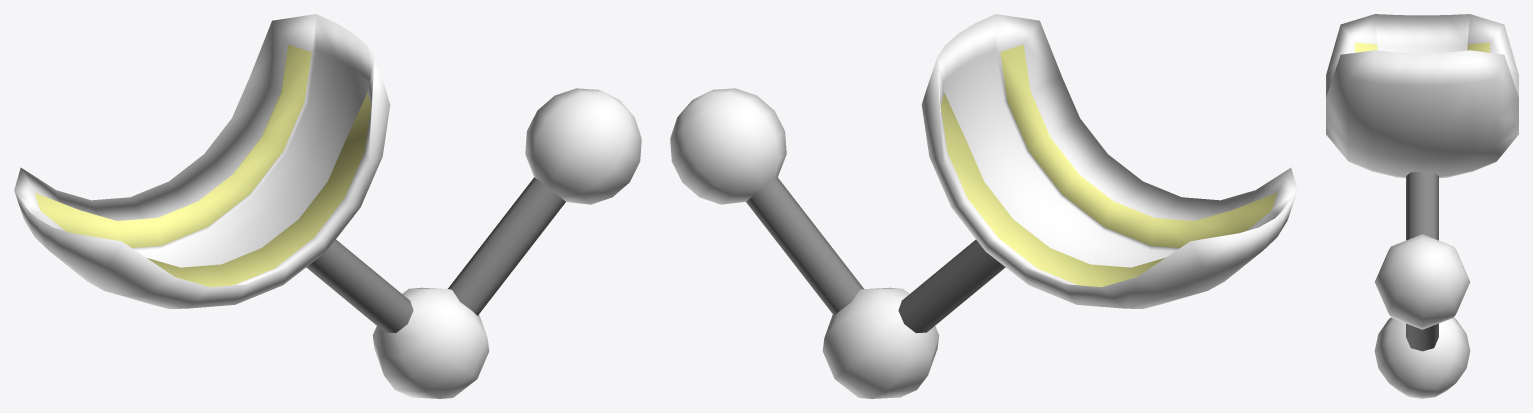
The model's file is Helm_Base_Mesh.fbx.
3 views of the same model, side by side, from view 1: azimuth 30°, elevation 25°; view 2: azimuth 150°, elevation 25°; view 3: azimuth 270°, elevation 25° (orthographic). The views are drawn at different scales.
Visible parts, largest first — view 1: Helm_Base_Mesh; view 2: Helm_Base_Mesh; view 3: Helm_Base_Mesh.
Boxes of the visible parts, <box> form: Helm_Base_Mesh: <box>14,14,641,398</box>; Helm_Base_Mesh: <box>670,14,1297,398</box>; Helm_Base_Mesh: <box>1326,14,1518,398</box>.
Size of the model in its own units: 461 by 282 by 159.
